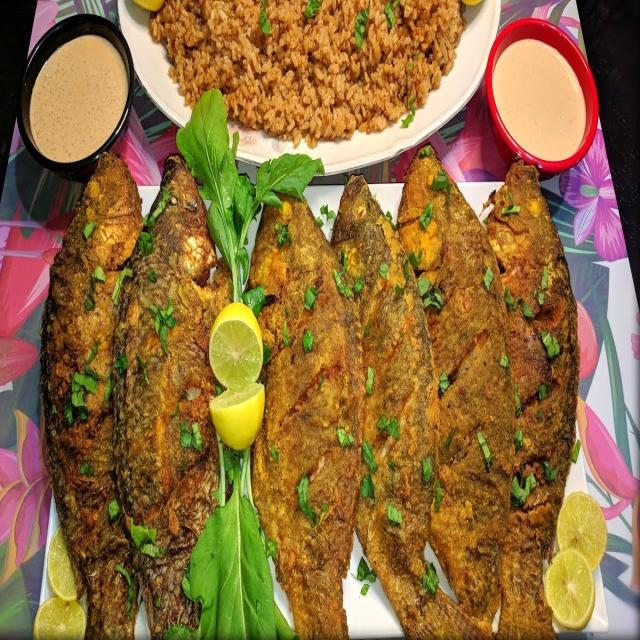Peixe: (37, 142, 581, 638), (329, 172, 486, 638), (394, 143, 516, 636), (112, 151, 232, 637), (246, 190, 366, 638), (38, 150, 144, 638), (479, 157, 581, 638)
